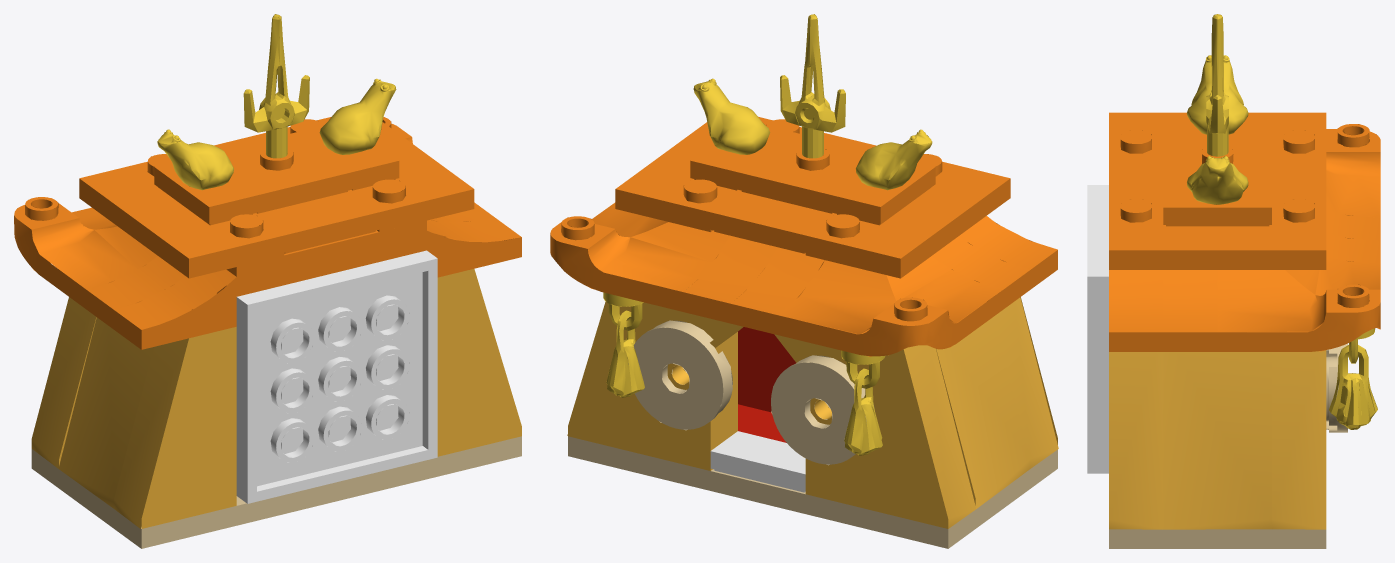
3 views of the same model, side by side, from view 1: azimuth 30°, elevation 25°; view 2: azimuth 150°, elevation 25°; view 3: azimuth 270°, elevation 25° (orthographic).
Parts seen in each view (by area): view 1: 水镜台金色; view 2: 水镜台金色; view 3: 水镜台金色.
Boxes of the visible parts, bbox=[...] form: 水镜台金色: bbox=[14, 14, 521, 548]; 水镜台金色: bbox=[550, 14, 1058, 548]; 水镜台金色: bbox=[1087, 14, 1380, 548].
Bounding box in the file's own units: 161 × 180 × 108.
